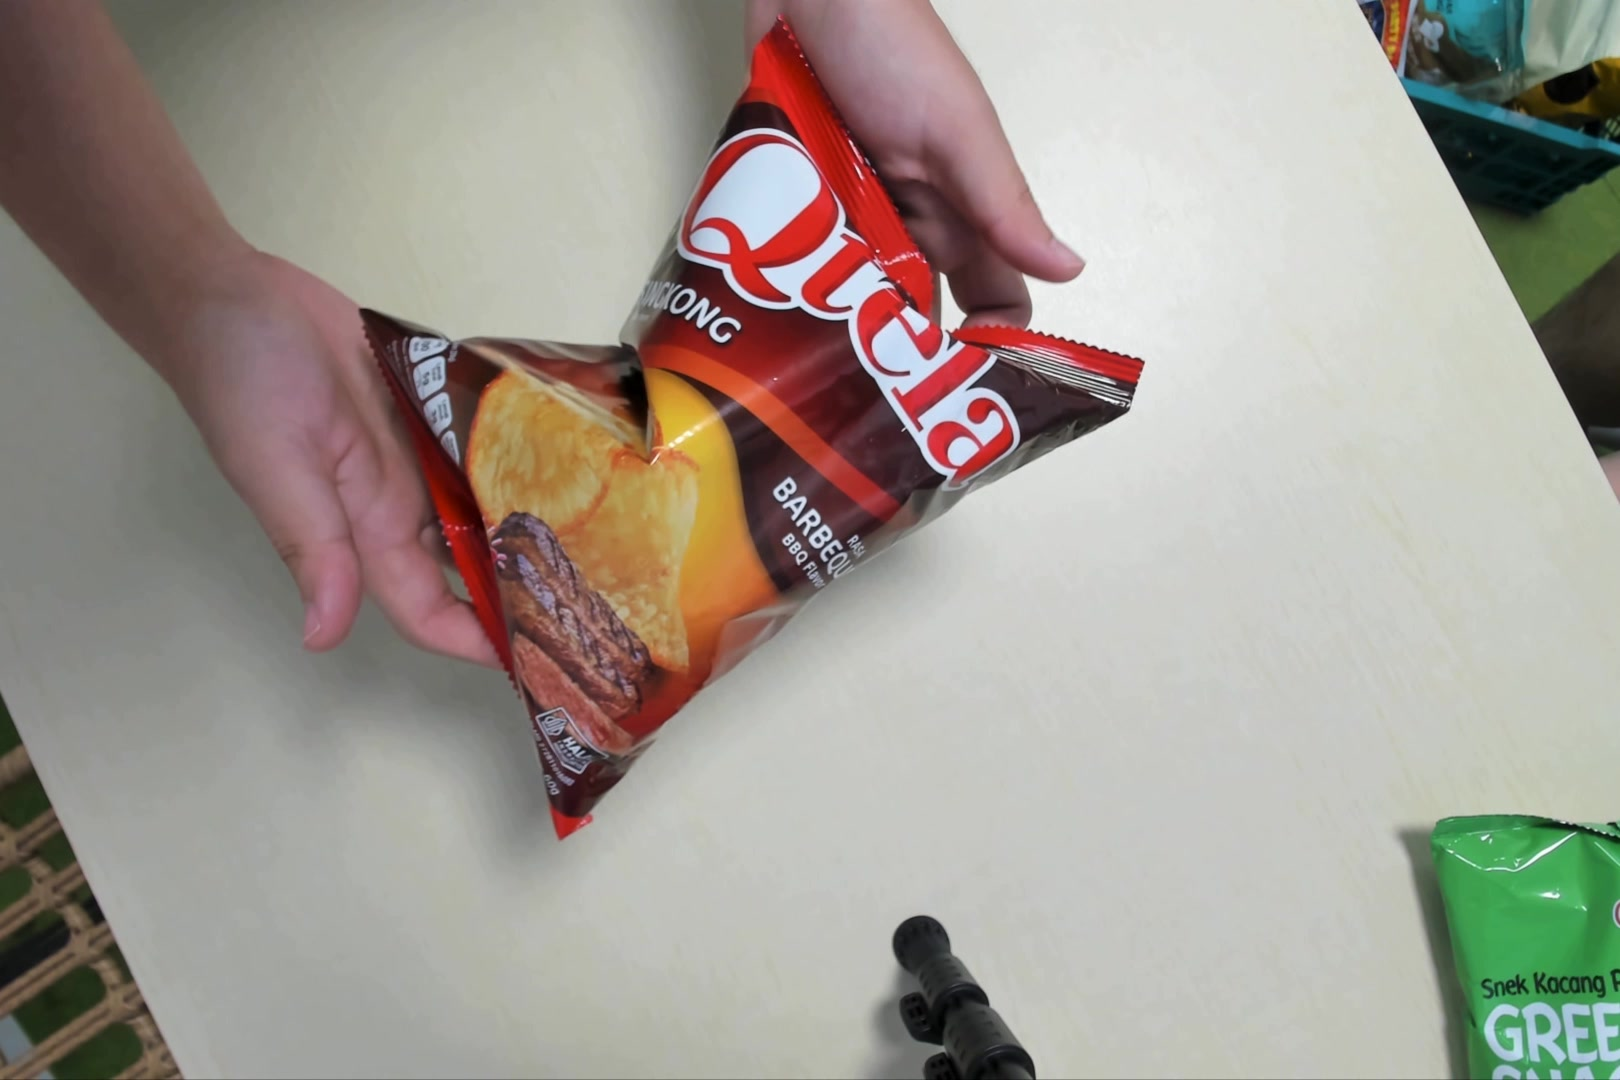PotatoChipsKeropok_0-99g_Halal_NonHealthy: (365, 14, 1157, 843)
